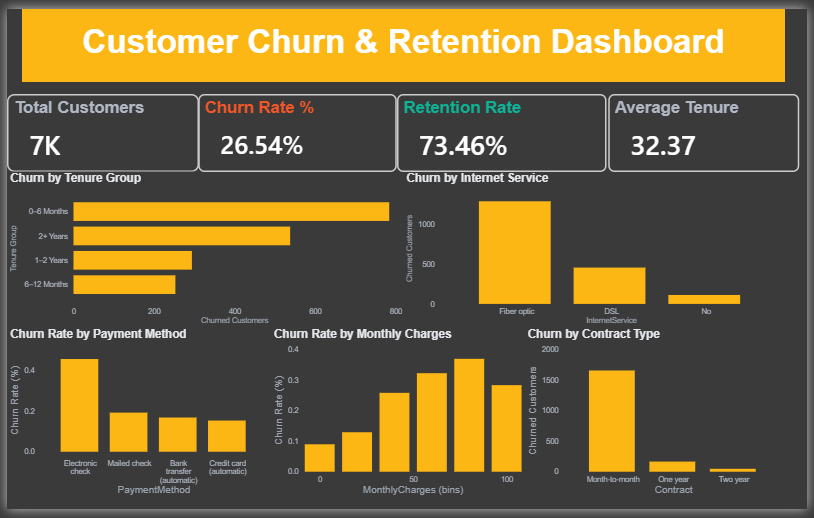

The page's visual inventory and layout, read from the dashboard file:
{"tool":"powerbi","page":{"name":"Page 1","canvas":[1280,800],"ordinal":0},"visuals":[{"type":"cardVisual","title":"Total Customers","fields":{"Data":["Telco.Total Customers"]},"box":[0,135.4,307,124.7],"z":0},{"type":"barChart","title":"Churn by Tenure Group","fields":{"Category":["Telco.Tenure Group"],"Y":["Telco.Churned Customers"]},"box":[0,260.1,638.1,250.7],"z":1000},{"type":"clusteredColumnChart","title":"Churn by Contract Type","fields":{"Category":["Telco.Contract"],"Y":["Telco.Churned Customers"]},"box":[827.6,510.6,417.9,273.2],"z":2000},{"type":"clusteredColumnChart","title":"Churn by Internet Service","fields":{"Category":["Telco.InternetService"],"Y":["Telco.Churned Customers"]},"box":[634.1,260.1,611.3,250.7],"z":3000},{"type":"cardVisual","title":"Churn Rate %","fields":{"Data":["Telco.Churn Rate (%)"]},"box":[307,135.4,317.7,124.7],"z":4000},{"type":"cardVisual","title":"Retention Rate","fields":{"Data":["Telco.Retention Rate (%)"]},"box":[624.7,135.4,335.1,124.7],"z":5000},{"type":"cardVisual","title":"Average Tenure","fields":{"Data":["Telco.Average Tenure"]},"box":[961.1,135.4,305.6,124.7],"z":6000},{"type":"clusteredColumnChart","title":"Churn Rate by Payment Method","fields":{"Category":["Telco.PaymentMethod"],"Y":["Telco.Churn Rate (%)"]},"box":[0,510.6,421.1,273.2],"z":7000},{"type":"clusteredColumnChart","title":"Churn Rate by Monthly Charges","fields":{"Category":["Telco.MonthlyCharges (bins)"],"Y":["Telco.Churn Rate (%)"]},"box":[421.1,510.6,406.5,273.2],"z":8000},{"type":"textbox","box":[24.1,0,1221.2,116.6],"z":9000}]}

Visuals, with their boxes in screenshot pixels (x1, y1, x2, y2), scaled from the page's 1280x800 canvas onto the 814x518 screenshot:
"Total Customers" cardVisual: region(0, 88, 195, 168)
"Churn by Tenure Group" barChart: region(0, 168, 406, 331)
"Churn by Contract Type" clusteredColumnChart: region(526, 331, 792, 508)
"Churn by Internet Service" clusteredColumnChart: region(403, 168, 792, 331)
"Churn Rate %" cardVisual: region(195, 88, 397, 168)
"Retention Rate" cardVisual: region(397, 88, 610, 168)
"Average Tenure" cardVisual: region(611, 88, 806, 168)
"Churn Rate by Payment Method" clusteredColumnChart: region(0, 331, 268, 508)
"Churn Rate by Monthly Charges" clusteredColumnChart: region(268, 331, 526, 508)
textbox: region(15, 0, 792, 75)
